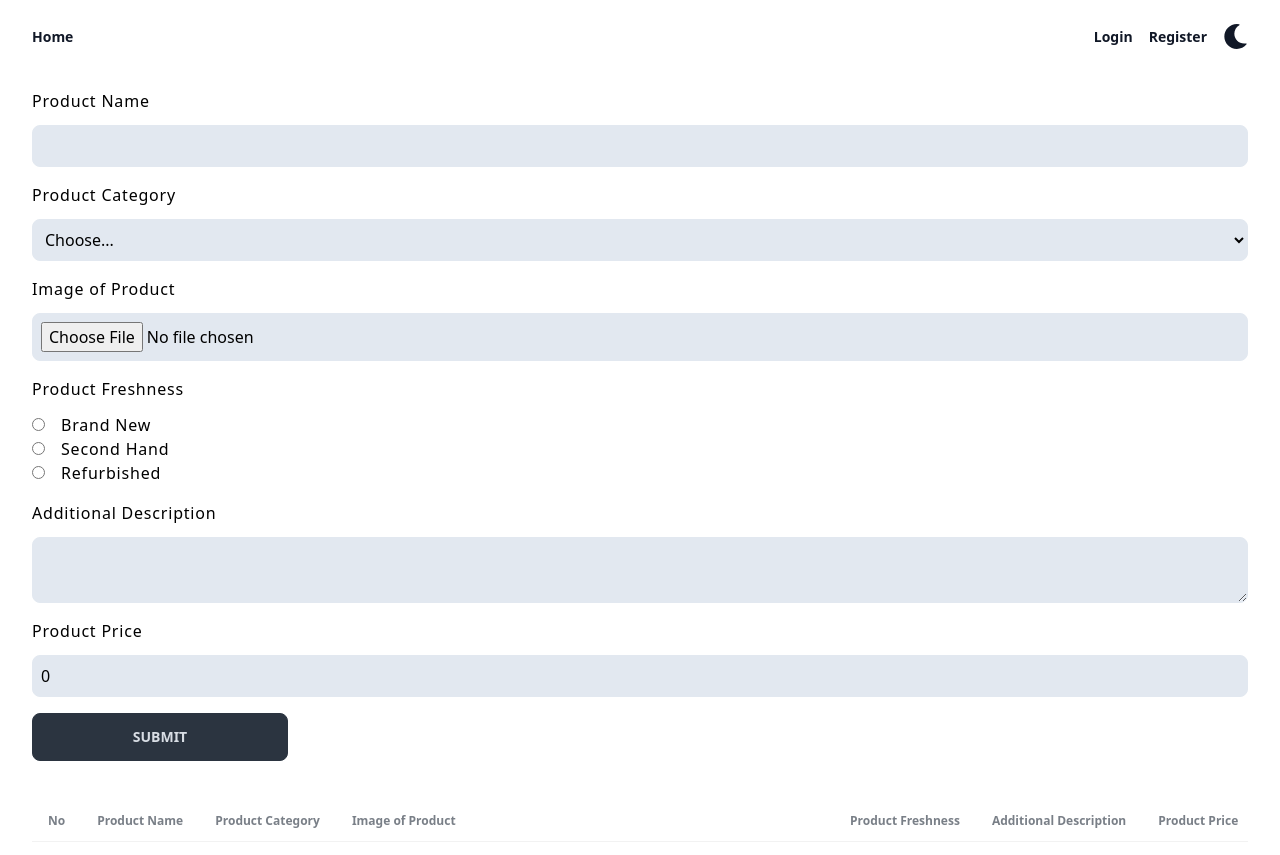
Index Product Page › Action for Product › Create Product › should show error message when some of input is missing a value
Click the button with aria-label "btn-submit".
click(160, 737)  # box [32,713,288,761]
(page scrolled)
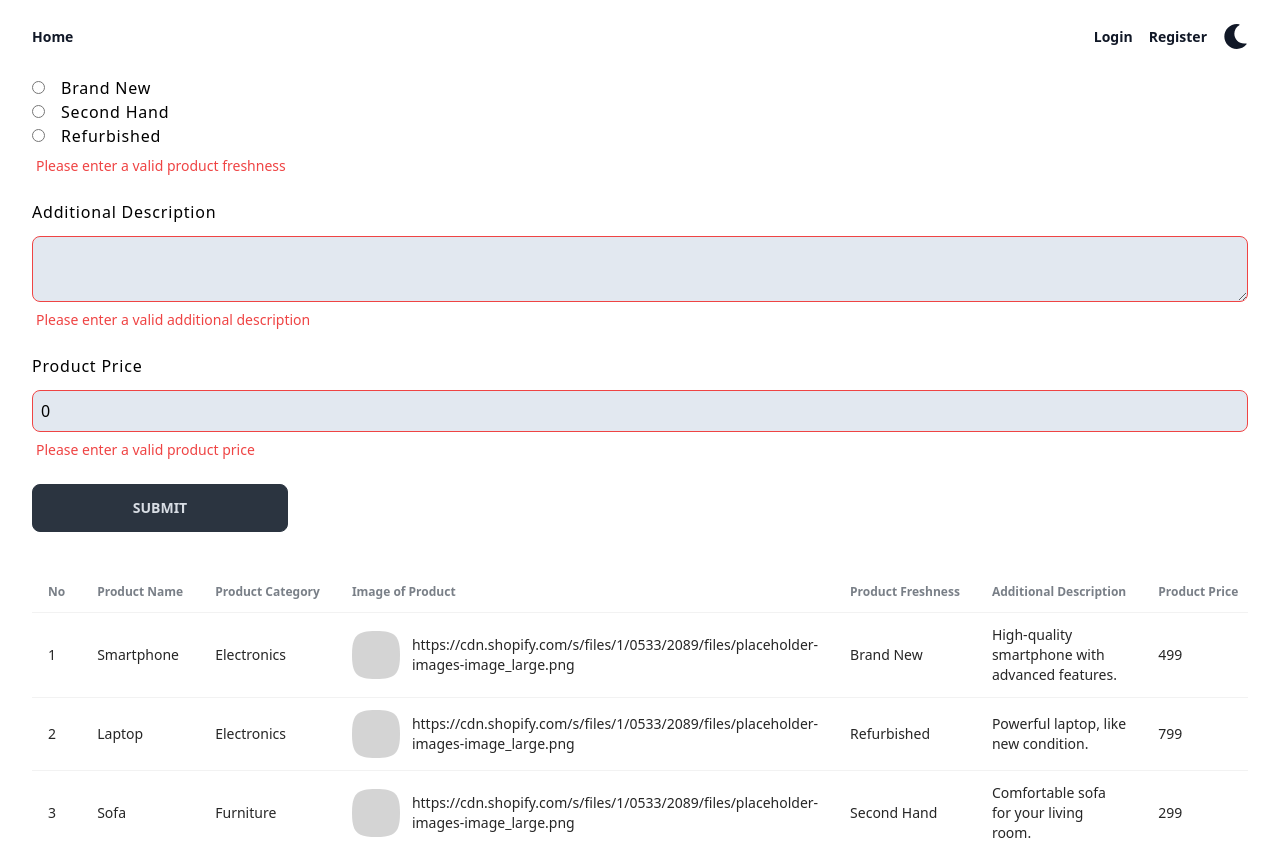
expect the text "Please enter a valid product freshness" is shown: met, box [36,156,286,176]
expect the text "Please enter a valid additional description" is shown: met, box [36,310,310,330]
expect the text "Please enter a valid product price" is shown: met, box [36,440,255,460]
